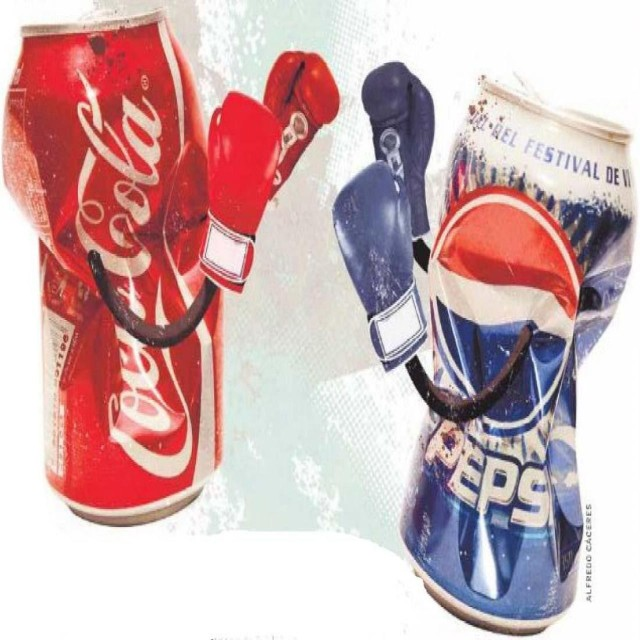pepsi: (428, 189, 586, 429)
